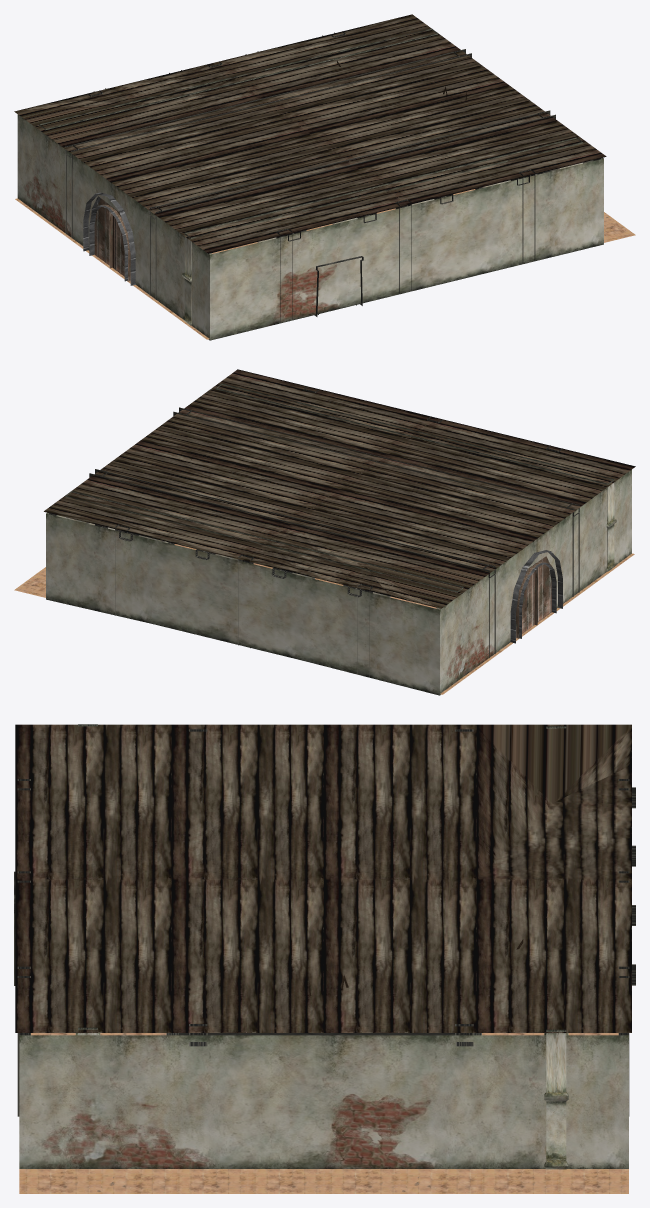
File: interior_storage_tutorial.fbx
The picture shows the model from 3 angles, top to bottom: view 1: azimuth 30°, elevation 25°; view 2: azimuth 150°, elevation 25°; view 3: azimuth 270°, elevation 25°; orthographic projection. The views are drawn at different scales.
Parts seen in each view (by area): view 1: ceiling, walls, woodbeamsA, rightSideColumns2, rightSideColumns, arch14, door_hole, floor; view 2: ceiling, walls, woodbeamsA, rightSideColumns2, rightSideColumns, arch14, door_hole, floor; view 3: ceiling, walls, floor, rightSideColumns, woodbeamsA, polySurface88.
Boxes of the visible parts, x1,y1,x2,y2 form: ceiling: (14,14,606,253); walls: (17,114,603,340); woodbeamsA: (65,31,600,322); rightSideColumns2: (182,137,582,325); rightSideColumns: (39,28,437,129); arch14: (83,192,135,285); door_hole: (94,198,124,276); floor: (15,198,635,339); ceiling: (44,369,635,608); walls: (46,469,631,695); woodbeamsA: (49,386,579,677); rightSideColumns2: (216,383,616,571); rightSideColumns: (65,491,463,609); arch14: (510,550,562,643); door_hole: (516,556,551,637); floor: (14,553,634,694); ceiling: (15,724,631,1032); walls: (19,1035,628,1168); floor: (19,1033,628,1193); rightSideColumns: (544,726,568,1169); woodbeamsA: (17,729,629,1116); polySurface88: (178,1033,454,1035).
Size of the model in its own units: 12930 by 3390 by 10187.
Materials: 3 (3 with a texture image).
